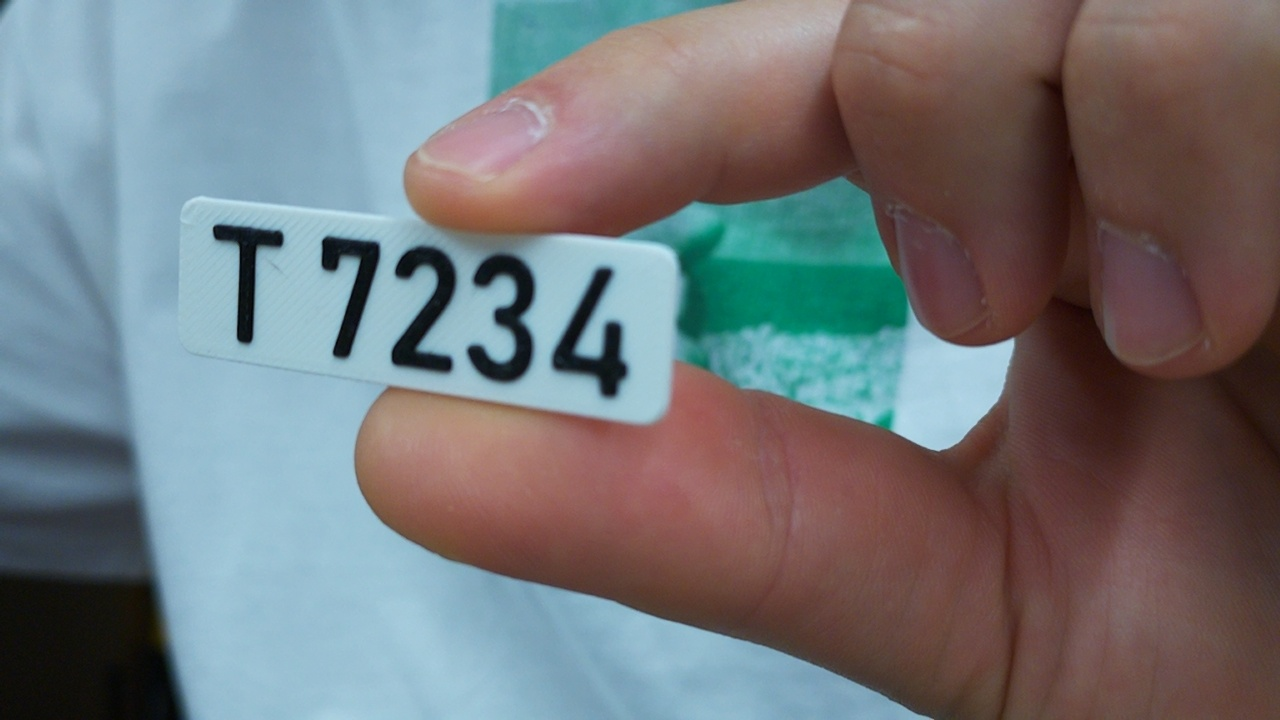license_plate: (174, 194, 684, 430)
